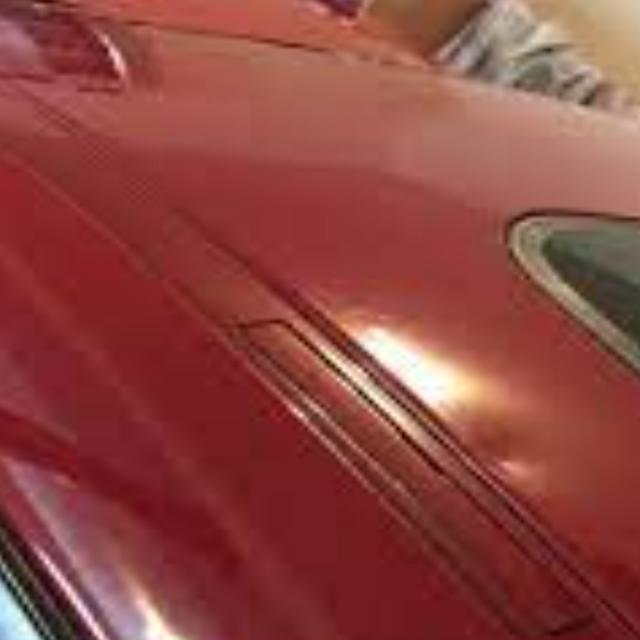dents: (450, 411, 561, 505)
